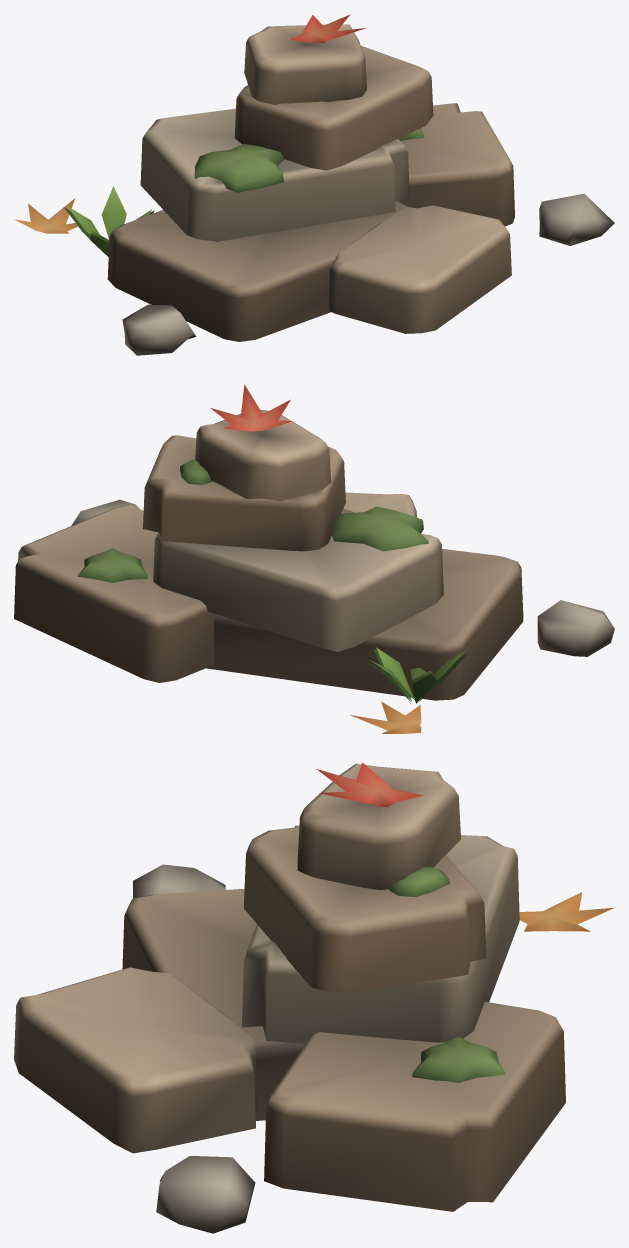
File: prop-scav-terrace-full.glb
3 views of the same model, one above another, from view 1: azimuth 30°, elevation 25°; view 2: azimuth 150°, elevation 25°; view 3: azimuth 270°, elevation 25° (orthographic). The views are drawn at different scales.
Parts seen in each view (by area): view 1: body; view 2: body; view 3: body.
Boxes of the visible parts, <box> form: body: <box>14,14,614,355</box>; body: <box>14,384,614,733</box>; body: <box>14,762,614,1233</box>.
Bounding box in the file's own units: 1.3 × 0.5566 × 0.9706.
